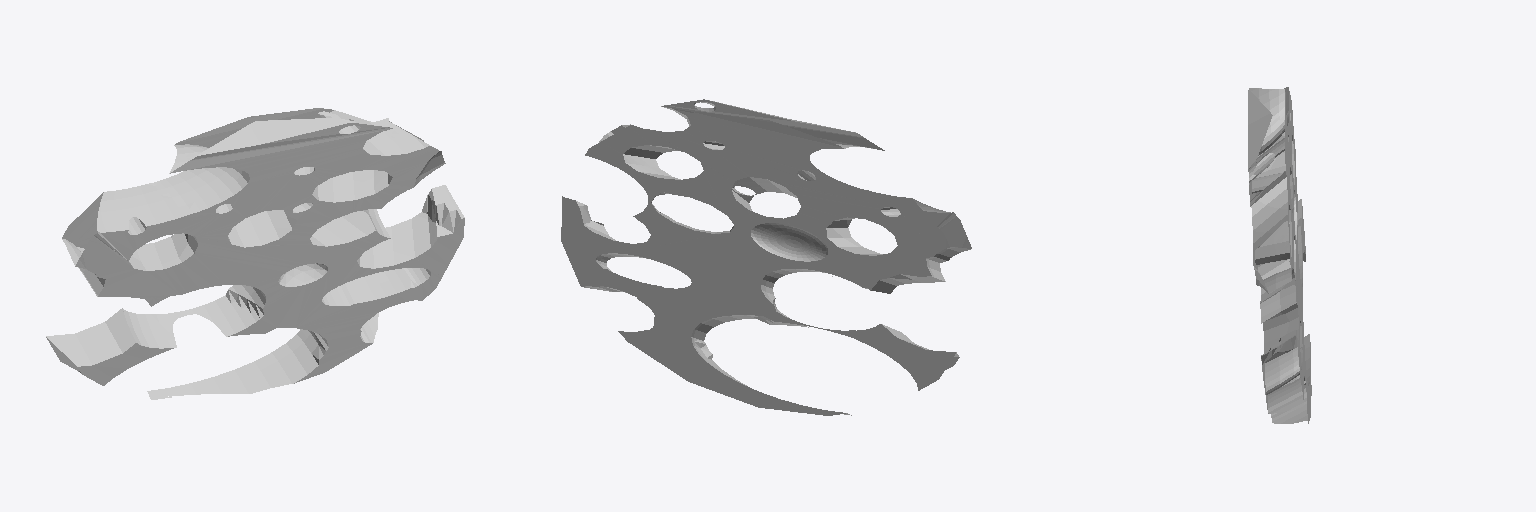
Rendered from Knochen.obj.
The picture shows the model from 3 angles: view 1: azimuth 30°, elevation 25°; view 2: azimuth 150°, elevation 25°; view 3: azimuth 270°, elevation 25°; orthographic projection.
Parts seen in each view (by area): view 1: z; view 2: z; view 3: z.
Boxes of the visible parts, x1=… form: z: x1=46, y1=108, x2=464, y2=399; z: x1=561, y1=99, x2=971, y2=415; z: x1=1248, y1=87, x2=1311, y2=423.
Size of the model in its own units: 2095 by 1391 by 288.